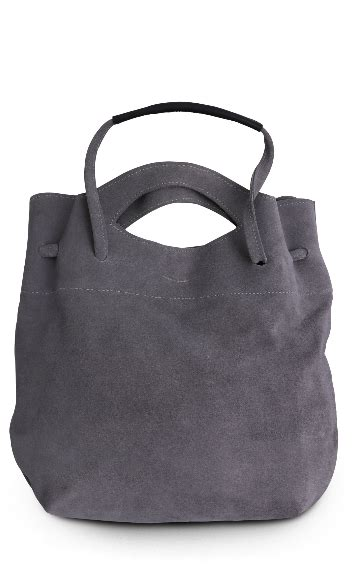gamuza: (10, 161, 339, 524)
